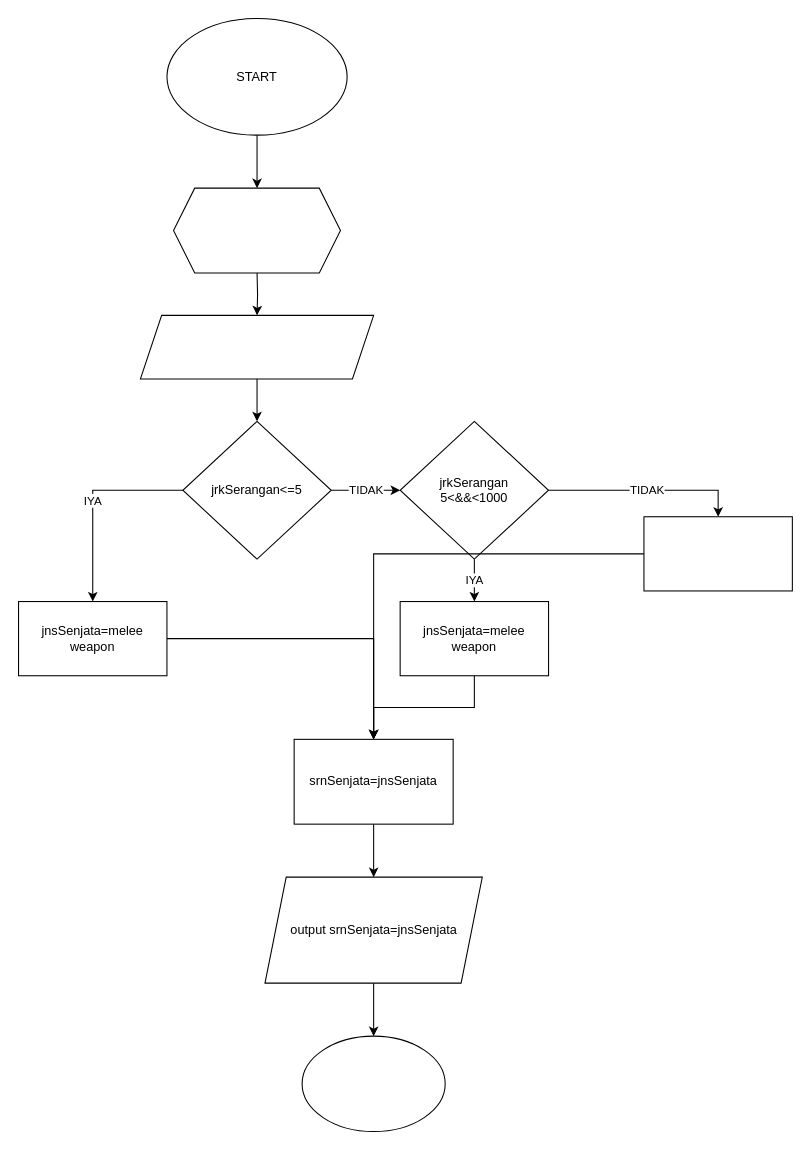
Some shapes in this 811 by 1150 pixel diagram are drawn without their labels. The shapes that lost their labels are listed below. From the top down, each one's centre as x and y in pixels, then its label:
At point (256, 230): "String jnsSenjata, srnSenjarata int jrkSerangan".
At point (256, 346): "input jarak serangan".
At point (717, 553): "jnsSenjata=error".
At point (373, 1083): "FINISH".
